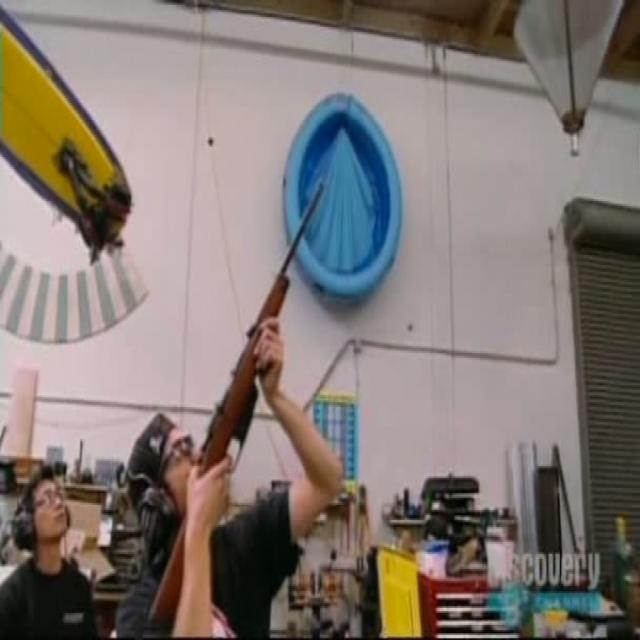rifle: (143, 171, 326, 640)
